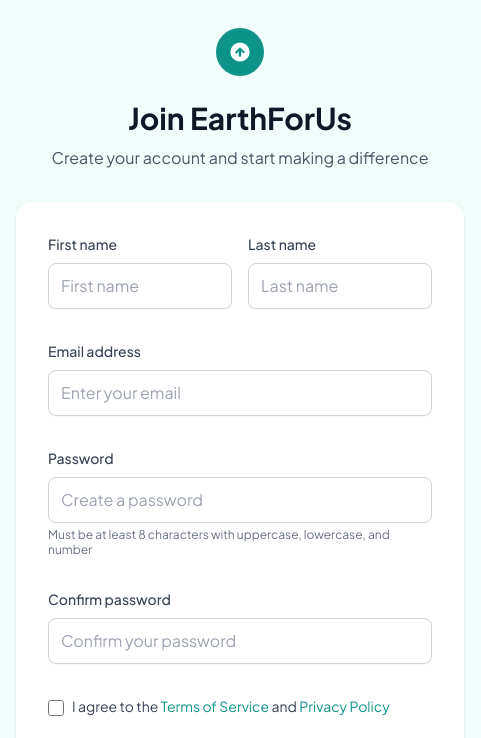
SignupPage Component › Form Validation › should show email validation error for invalid format
The width and height of the screenshot is (481, 738).
Type "invalid-email" into the field labelled "Email address".
click(240, 392); type("invalid-email")  # box [48,370,432,416]
(page scrolled)
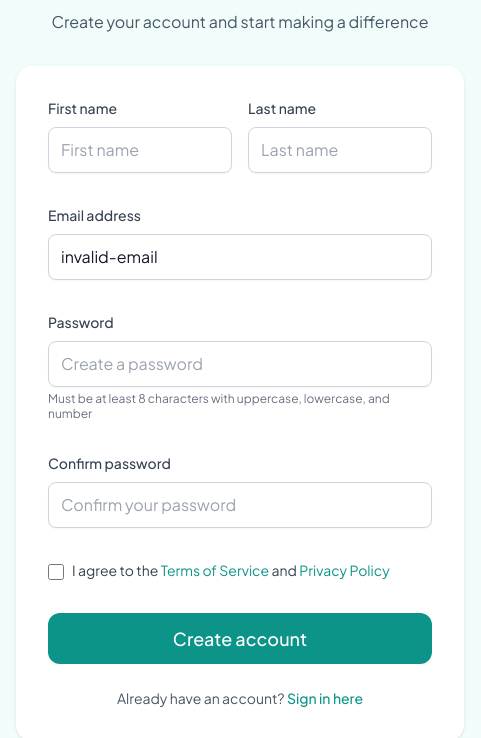
Submit the form
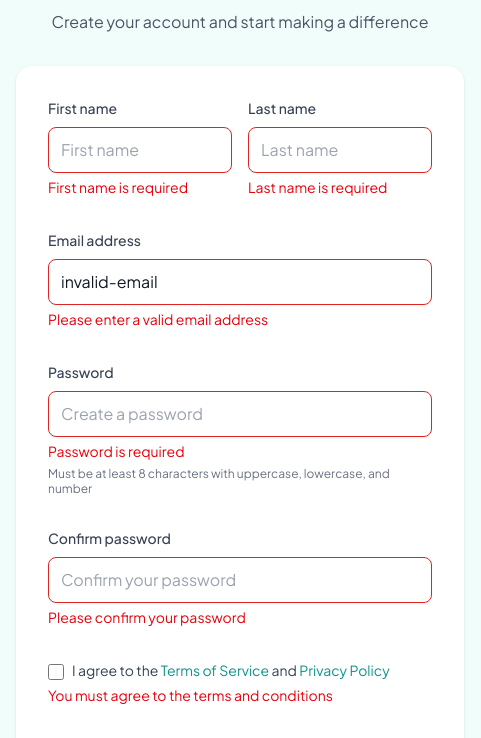
Expected: the text "Please enter a valid email address" is shown, [48,310,268,328]
